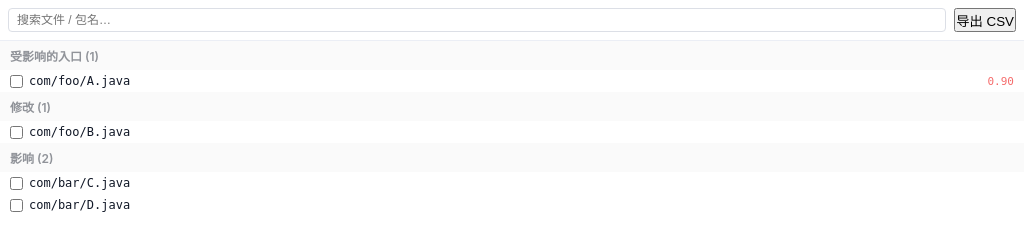
Scenario: FileBrowserPanel › filters by search keyword
Type "bar" into the field with class "search" at x=477, y=20, box [8, 8, 946, 32]
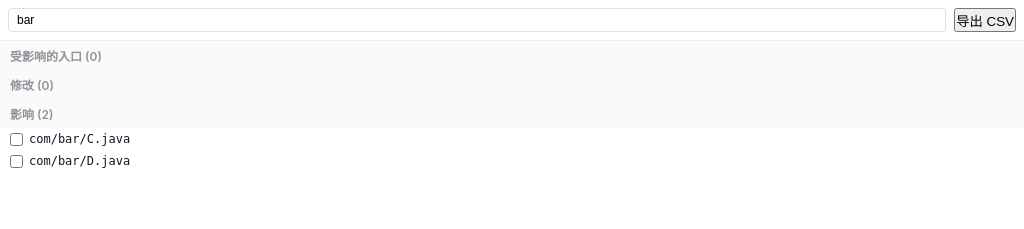
expect the number of buttons with class "file-row" is 2: met, box [10, 132, 130, 146]; [10, 154, 130, 168]
